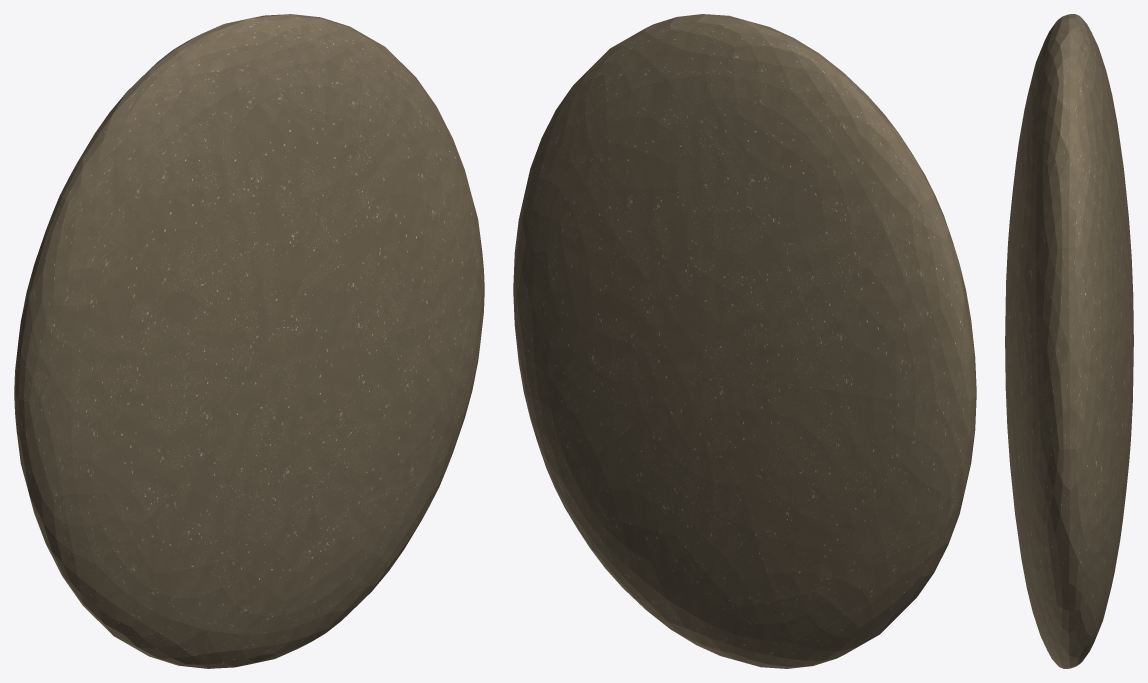
File: Island.gltf
The picture shows the model from 3 angles, left to right: view 1: azimuth 30°, elevation 25°; view 2: azimuth 150°, elevation 25°; view 3: azimuth 270°, elevation 25°; orthographic projection. The views are drawn at different scales.
Parts seen in each view (by area): view 1: Icosphere; view 2: Icosphere; view 3: Icosphere.
Boxes of the visible parts, x1=… form: Icosphere: x1=14, y1=14, x2=484, y2=668; Icosphere: x1=513, y1=14, x2=976, y2=668; Icosphere: x1=1005, y1=14, x2=1133, y2=668.
Size of the model in its own units: 22.17 by 29.6 by 5.58.
